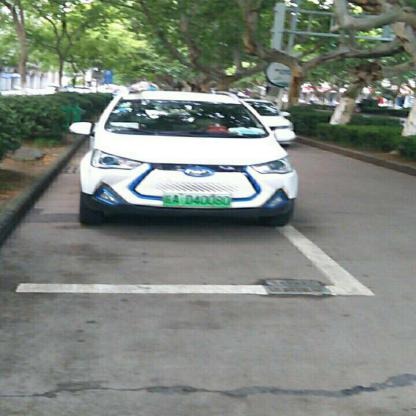lp: (163, 193, 232, 208)
